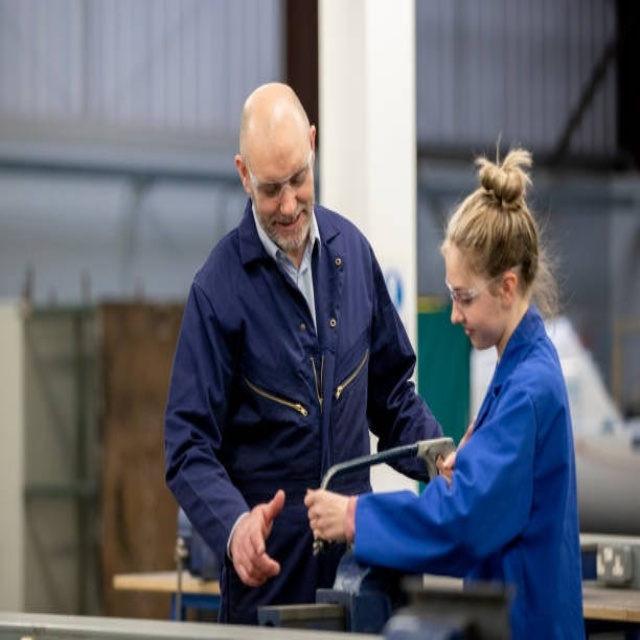Gafas: (246, 146, 314, 201), (444, 269, 509, 306)
Sin_guantes: (228, 483, 291, 595), (300, 485, 352, 540)
Sin_mascara: (266, 207, 312, 242), (452, 315, 483, 353)
